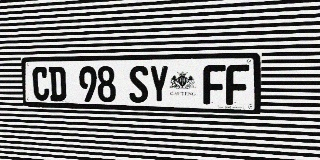8: (97, 66, 116, 102)
9: (79, 66, 97, 102)
C: (32, 67, 50, 101)
D: (49, 66, 67, 101)
F: (226, 64, 249, 105), (203, 65, 225, 105)
S: (129, 66, 149, 103)
Y: (149, 65, 169, 103)
